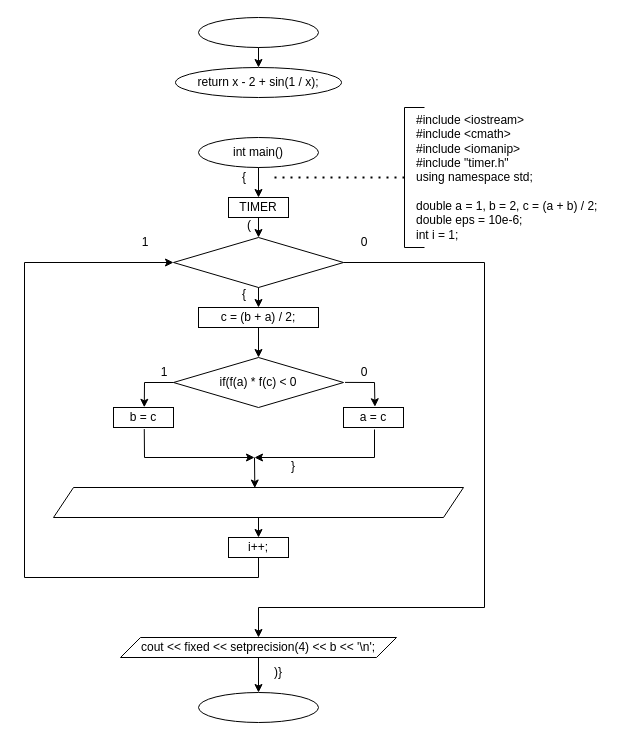
Image size: 632x740. Some labels were removed from this diagram. Each missing label, with the box of its shape:
cout << fixed << setprecision(4) << "Step: " << i << " Value: " << b << '\n';: (52, 486, 464, 518)
double f(double x): (198, 16, 318, 48)
return 0;: (198, 692, 318, 722)
while(abs(a - b) > e: (172, 236, 344, 288)
